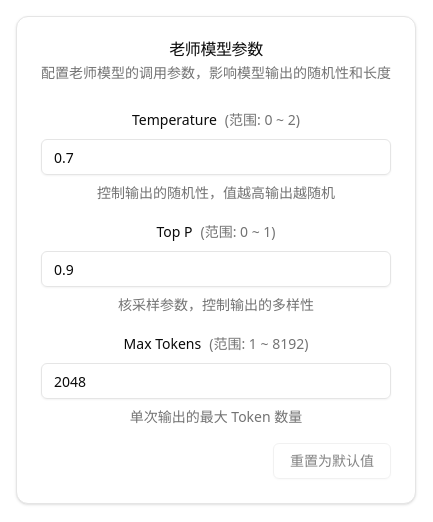
Scenario: TeacherModelParamsForm › 输入验证 › 应该在 max_tokens 超出范围时显示错误
Step 1. Replace the text in the number field with test id "max-tokens-input" with "10000" → coordinates (216, 381), box left=41, top=363, right=391, bottom=399
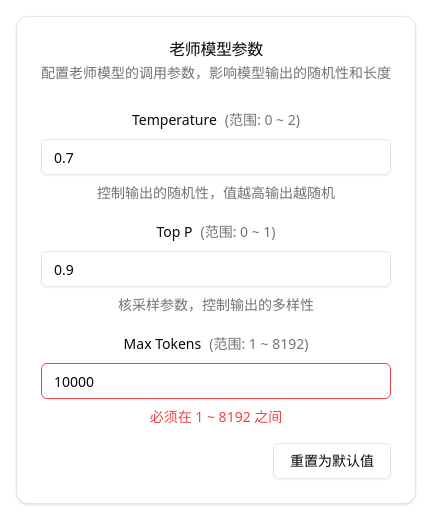
Result: the text "必须在 1 ~ 8192 之间" is shown at left=150, top=407, right=282, bottom=426
